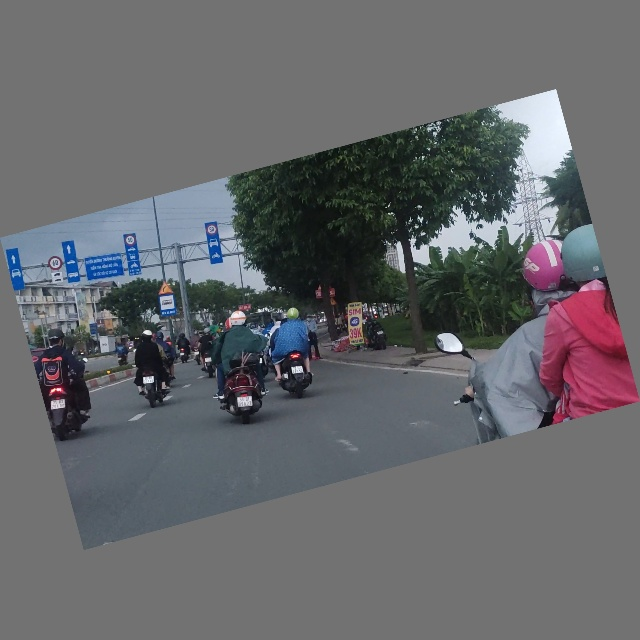I.434a: (156, 293, 179, 319)
P.127*50: (123, 233, 137, 248), (205, 224, 218, 237)
P.127*60: (47, 255, 64, 273)
S.505a*Xe tai va cong: (50, 271, 64, 286)
W.201b: (155, 280, 174, 298)
